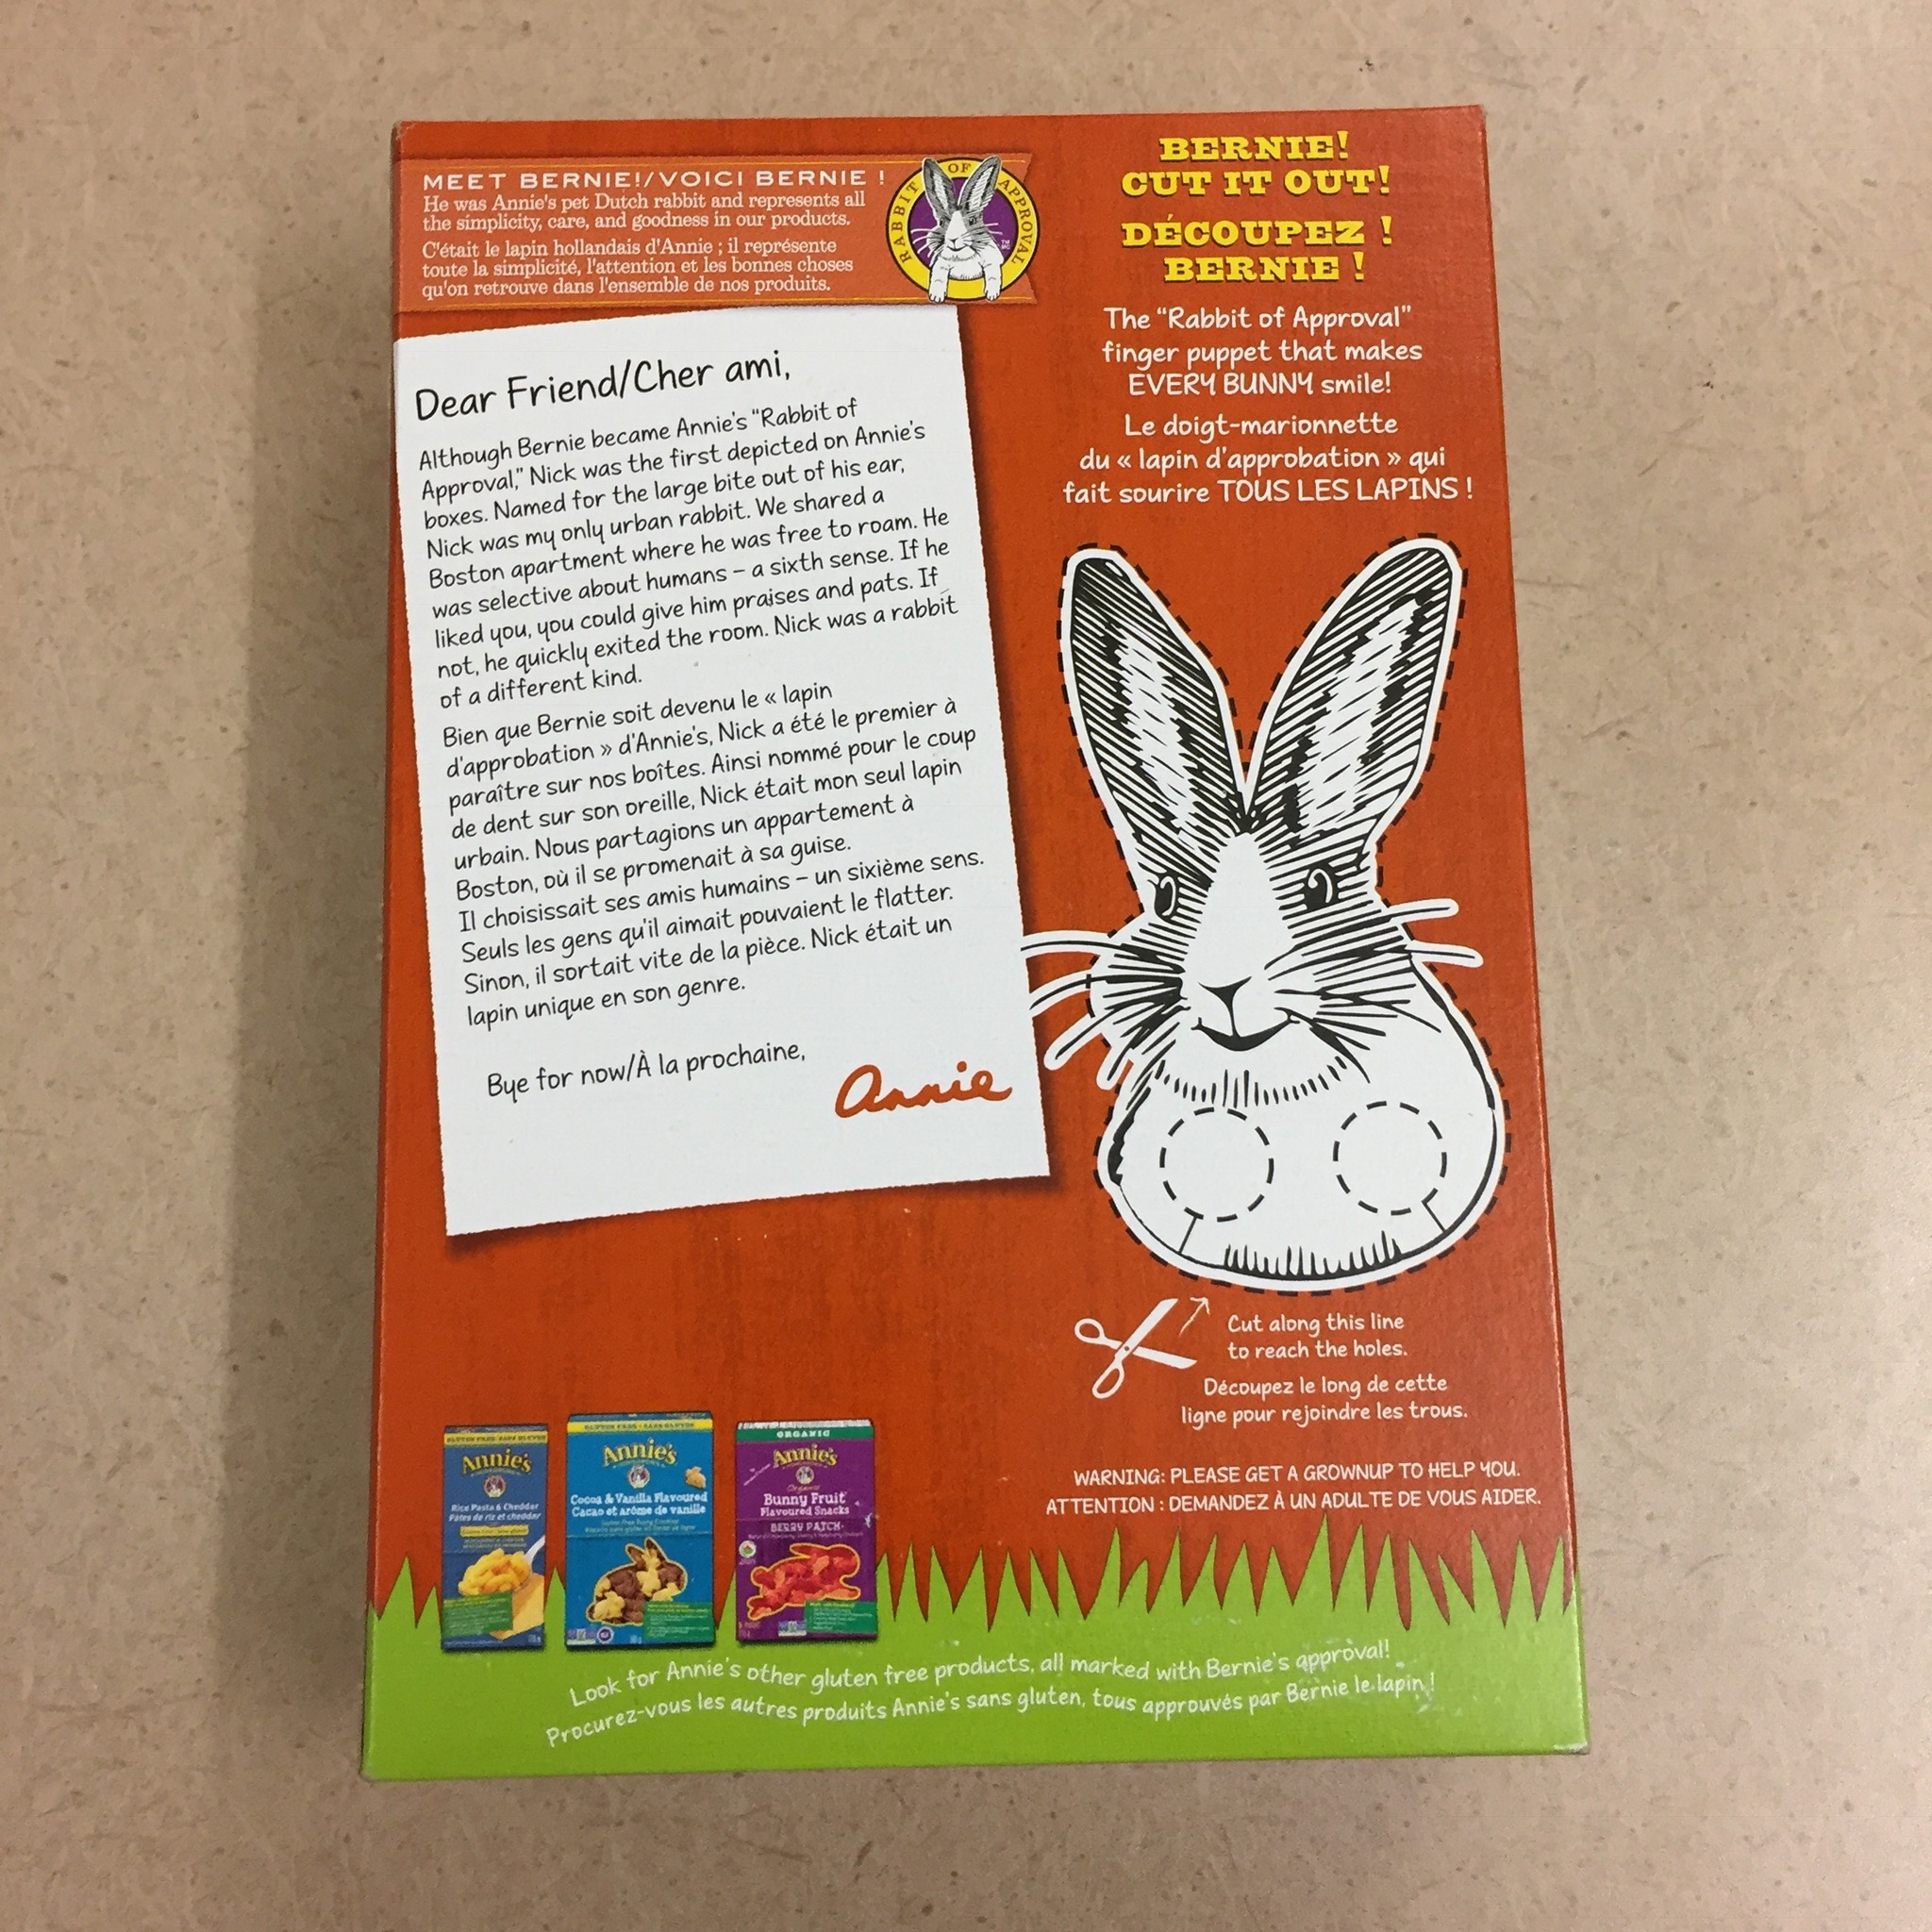annies_snickerdoodle_cinnamon_sugar: (356, 101, 1596, 1785)
